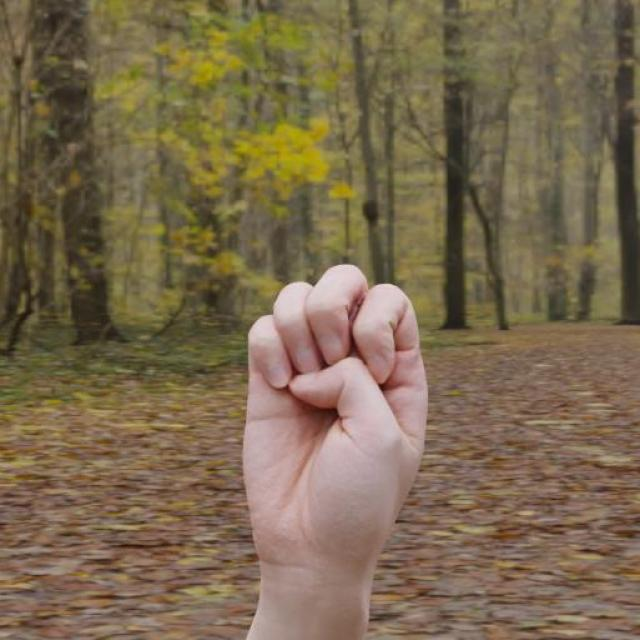E: (239, 260, 430, 570)
